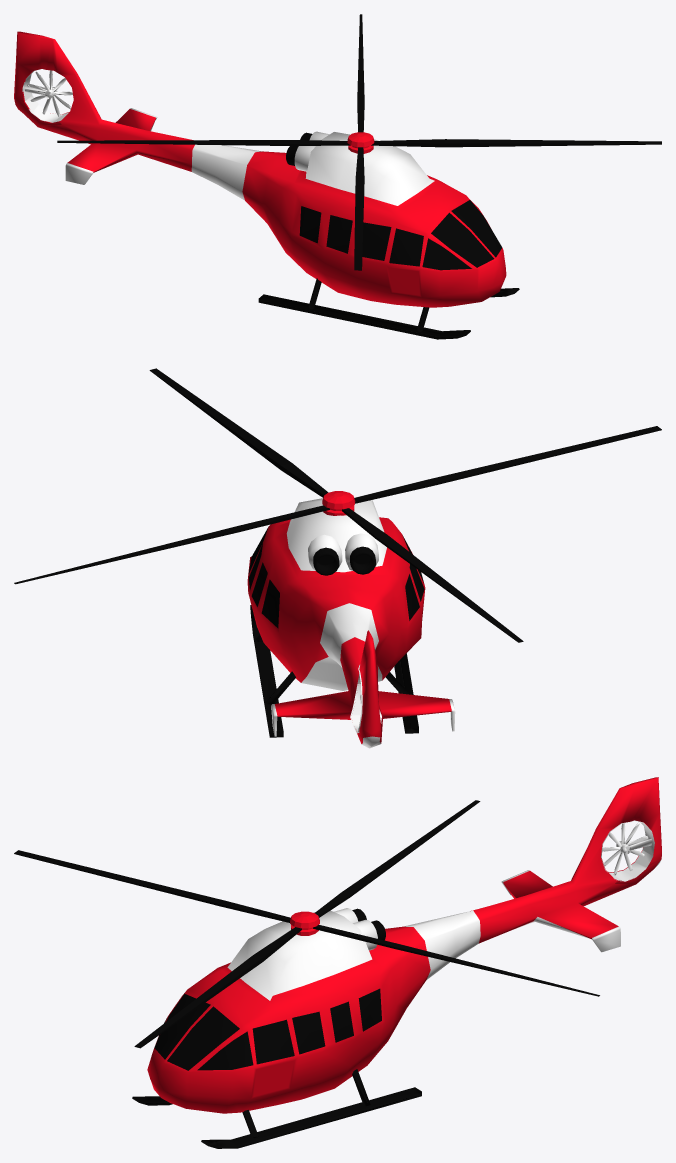
Rendered from ToyObject_232.fbx.
3 views of the same model, one above another, from view 1: azimuth 30°, elevation 25°; view 2: azimuth 150°, elevation 25°; view 3: azimuth 270°, elevation 25° (orthographic). The views are drawn at different scales.
Parts seen in each view (by area): view 1: Object.096; view 2: Object.096; view 3: Object.096.
Part boxes in pixels (<box>): Object.096: <box>14,14,661,339</box>; Object.096: <box>14,368,661,748</box>; Object.096: <box>14,777,661,1148</box>.
Size of the model in its own units: 0.2945 by 0.1197 by 0.3255.
